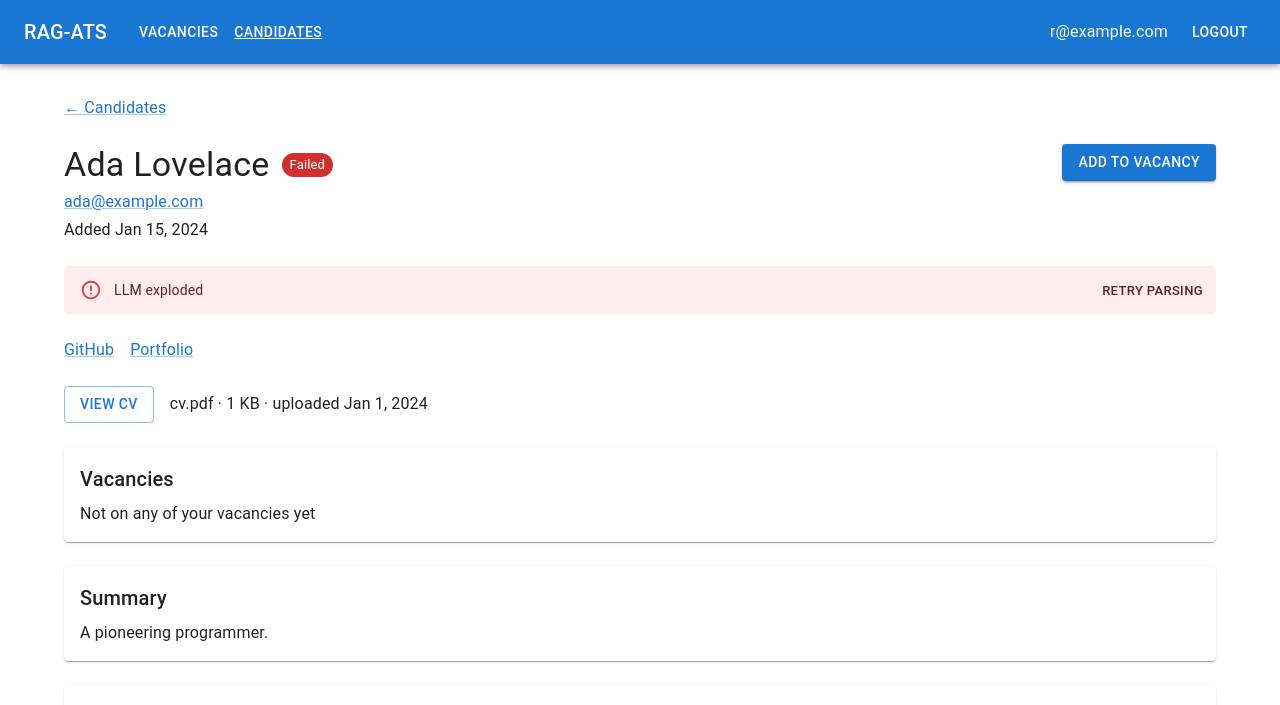
Scenario: CandidatePage › shows the parse error and retries parsing
expect the text "LLM exploded" is shown: met, box [114,282,203,298]
Click the button "Retry parsing": click(1153, 291) [1097,276,1208,307]
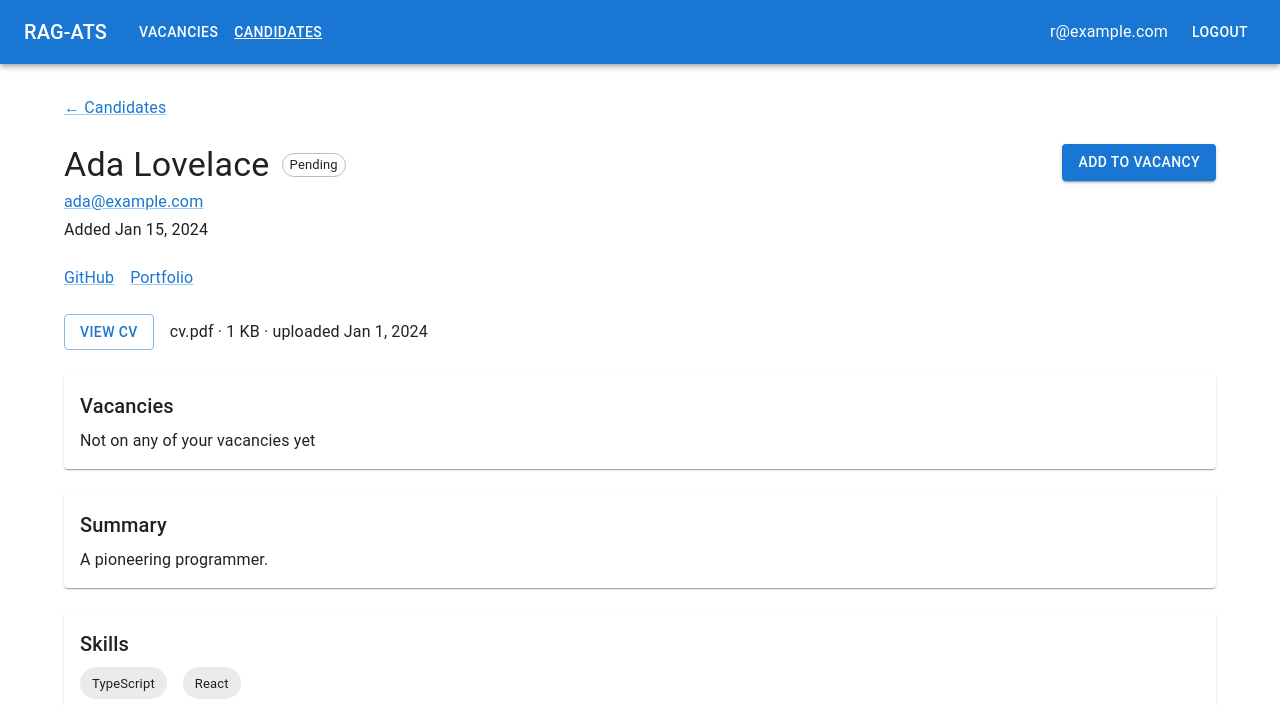
expect the text "Pending" is shown: met, box [290,157,338,172]
expect the text "LLM exploded" is gone: met
